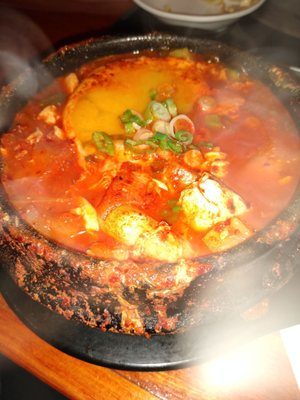sushi: (130, 0, 268, 35)
